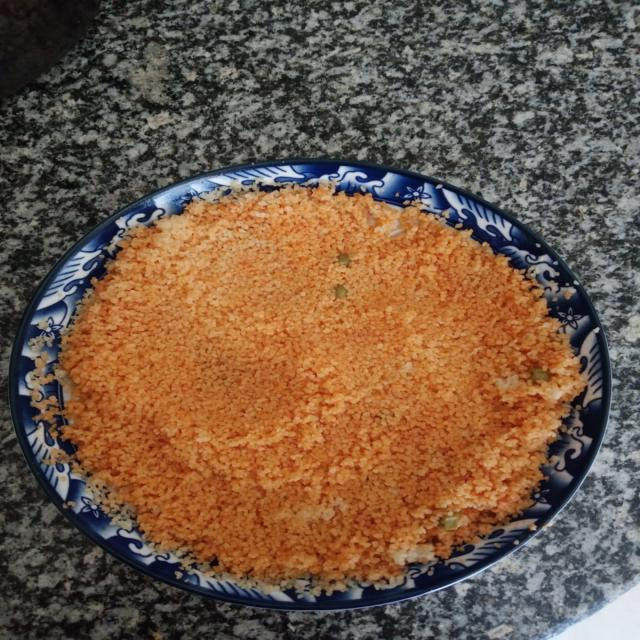Couscous: (35, 143, 614, 596)
